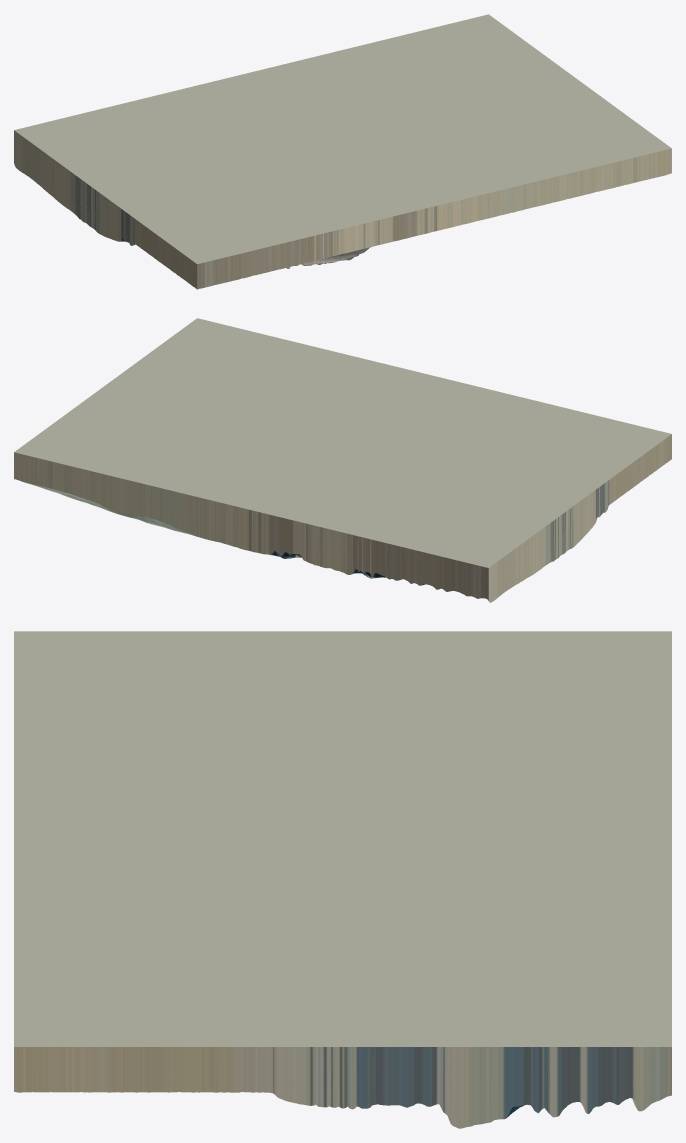
File: the-great-wave.glb
The picture shows the model from 3 angles, top to bottom: view 1: azimuth 30°, elevation 25°; view 2: azimuth 150°, elevation 25°; view 3: azimuth 270°, elevation 25°; orthographic projection. The views are drawn at different scales.
Parts seen in each view (by area): view 1: The Great Wave of Kanagawa by Katsushika Hokusai (1831).stl; view 2: The Great Wave of Kanagawa by Katsushika Hokusai (1831).stl; view 3: The Great Wave of Kanagawa by Katsushika Hokusai (1831).stl.
Part boxes in pixels (x1,y1,x2,y2): The Great Wave of Kanagawa by Katsushika Hokusai (1831).stl: (14, 14, 671, 289); The Great Wave of Kanagawa by Katsushika Hokusai (1831).stl: (14, 318, 671, 602); The Great Wave of Kanagawa by Katsushika Hokusai (1831).stl: (14, 631, 671, 1128).
Bounding box in the file's own units: 100 × 13 × 66.87.
Materials: 1 (1 with a texture image).
